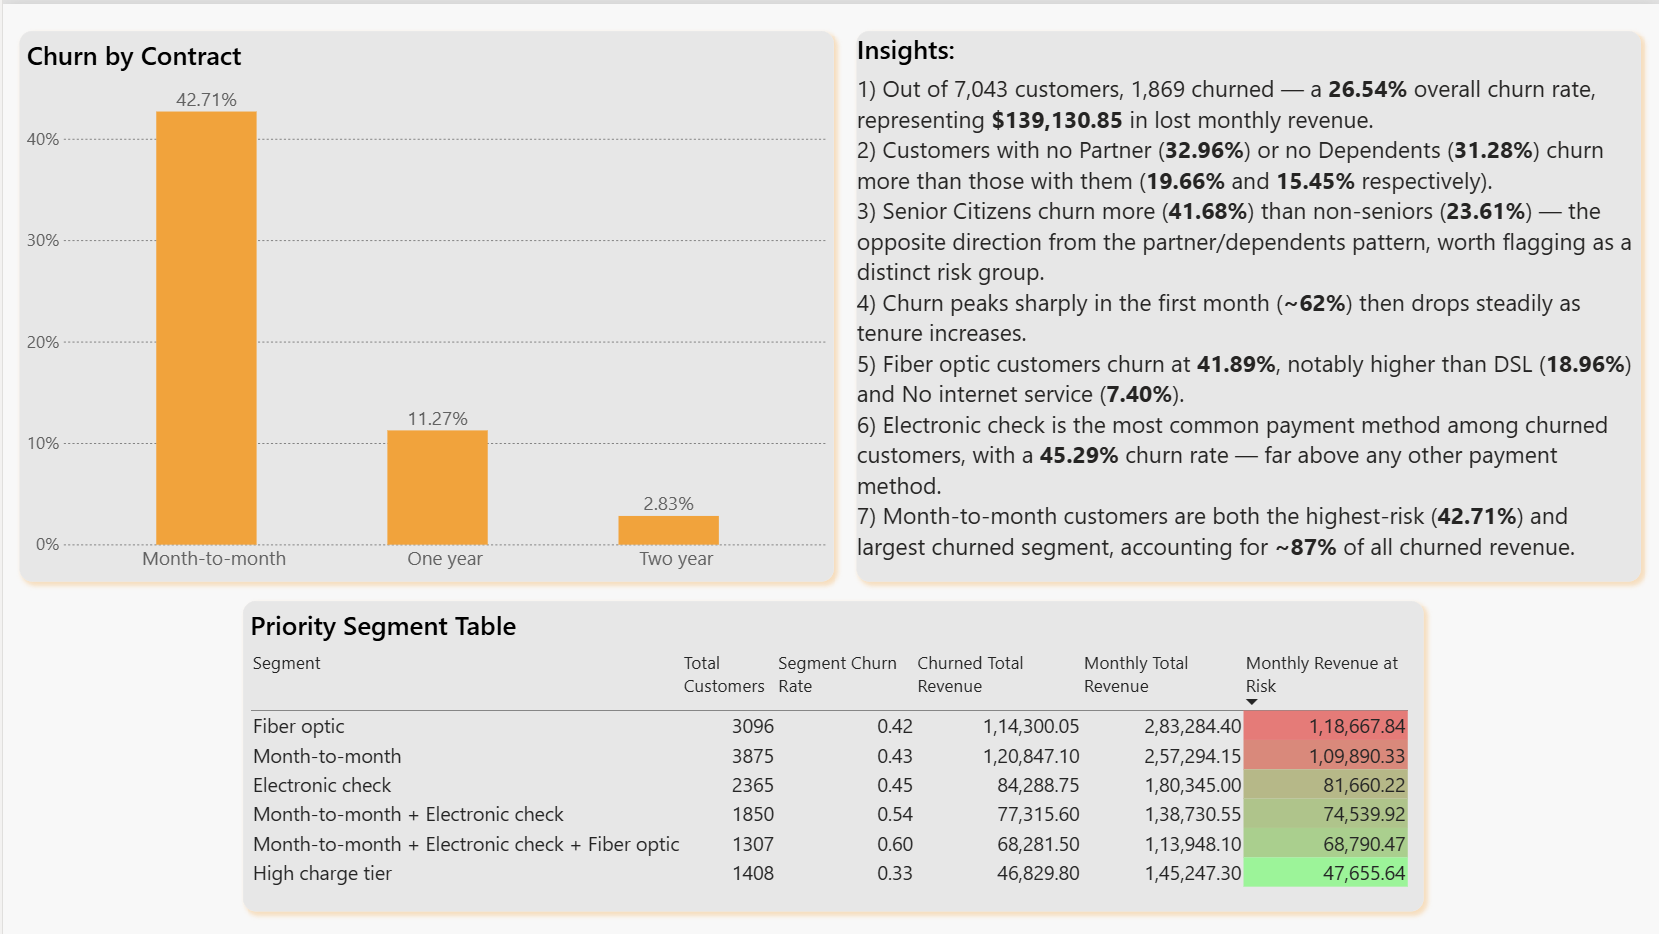

The dashboard page shown, as its layout file describes it:
{"tool":"powerbi","page":{"name":"Revenue Impact & Priority","canvas":[3840,2160],"ordinal":1},"visuals":[{"type":"tableEx","title":"Priority Segment Table","fields":{"Values":["public priority_segments.segment","Sum(public priority_segments.total_customers)","Sum(public priority_segments.churn_rate)","Sum(public priority_segments.churned_total_revenue)","Sum(public priority_segments.monthly_total_revenue)","Sum(public priority_segments.priority_score)"]},"box":[556.2,1383.5,2735.8,719.6],"z":1000},{"type":"clusteredColumnChart","title":"Churn by Contract","fields":{"Category":["public telco_customers.Contract"],"Y":["Avg(public telco_customers.churn_numeric)"]},"box":[38.2,62.6,1887.6,1275.8],"z":8000},{"type":"textbox","title":"Insights:","box":[1978,62.6,1818,1275.8],"z":8001}]}

Visuals, with their boxes in screenshot pixels (x1, y1, x2, y2), scaled from the page's 3840x2160 canvas onto the 1659x934 screenshot:
"Priority Segment Table" tableEx: [x1=240, y1=598, x2=1422, y2=909]
"Churn by Contract" clusteredColumnChart: [x1=17, y1=27, x2=832, y2=579]
"Insights:" textbox: [x1=855, y1=27, x2=1640, y2=579]
